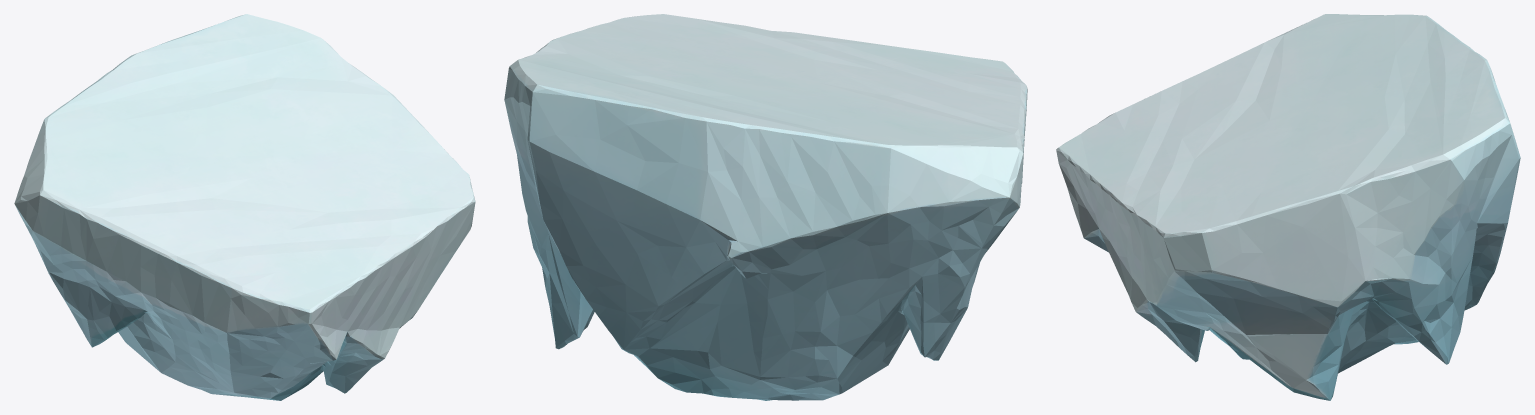
The model's file is platform3.fbx.
The picture shows the model from 3 angles, left to right: view 1: azimuth 30°, elevation 25°; view 2: azimuth 150°, elevation 25°; view 3: azimuth 270°, elevation 25°; orthographic projection. The views are drawn at different scales.
Parts seen in each view (by area): view 1: Mesh_0; view 2: Mesh_0; view 3: Mesh_0.
Boxes of the visible parts, x1=… form: Mesh_0: x1=14, y1=14, x2=475, y2=400; Mesh_0: x1=504, y1=14, x2=1027, y2=400; Mesh_0: x1=1056, y1=14, x2=1520, y2=400.
Size of the model in its own units: 1.45 by 1 by 1.48.
1 material, 1 textured.
